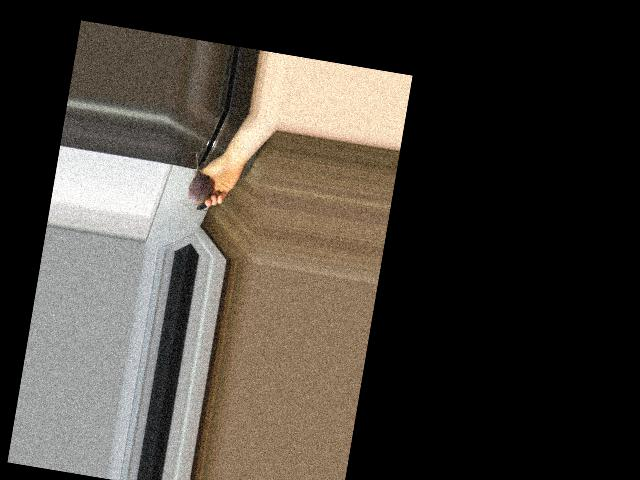beet: (185, 152, 217, 212)
